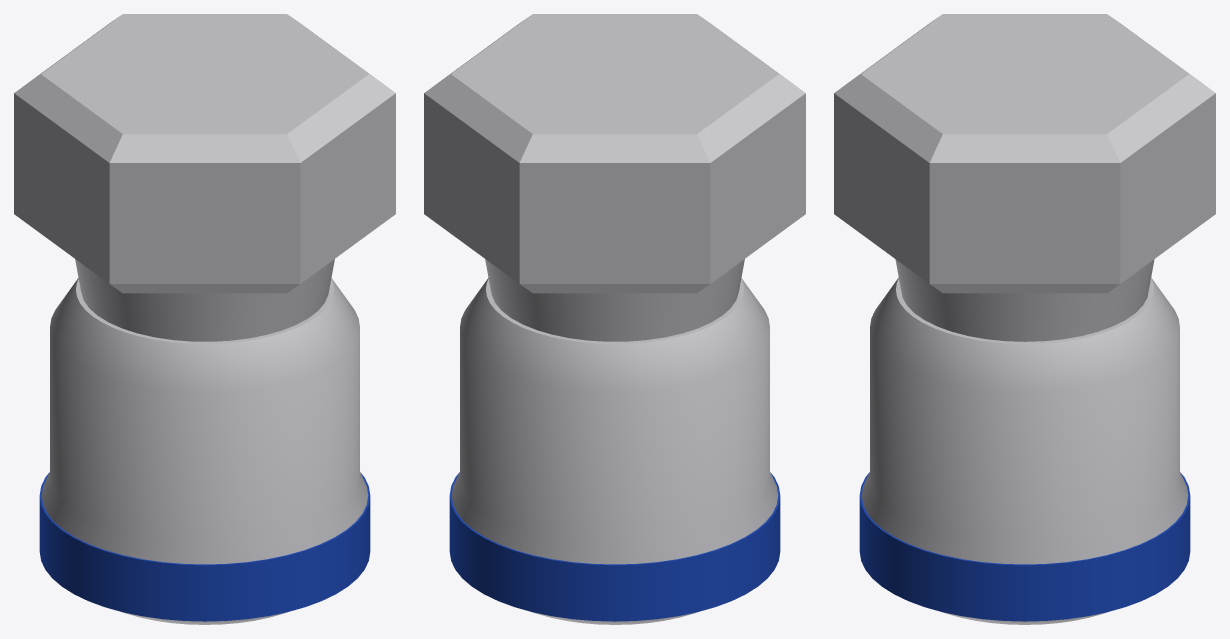
Rendered from adapter_rss1022.glb.
The picture shows the model from 3 angles, left to right: view 1: azimuth 30°, elevation 25°; view 2: azimuth 150°, elevation 25°; view 3: azimuth 270°, elevation 25°; orthographic projection.
Parts seen in each view (by area): view 1: переходник ВР, раструб, кольцо пресс, шейка; view 2: переходник ВР, раструб, кольцо пресс, шейка; view 3: переходник ВР, раструб, кольцо пресс, шейка.
Part boxes in pixels (left/top/right/bottom): переходник ВР: left=14, top=14, right=395, bottom=293; раструб: left=41, top=278, right=368, bottom=624; кольцо пресс: left=39, top=473, right=370, bottom=621; шейка: left=75, top=259, right=334, bottom=341; переходник ВР: left=424, top=14, right=805, bottom=293; раструб: left=451, top=278, right=778, bottom=624; кольцо пресс: left=449, top=473, right=780, bottom=621; шейка: left=485, top=259, right=744, bottom=341; переходник ВР: left=834, top=14, right=1215, bottom=293; раструб: left=861, top=277, right=1188, bottom=624; кольцо пресс: left=859, top=473, right=1190, bottom=621; шейка: left=895, top=259, right=1154, bottom=341.
Bounding box in the file's own units: 0.032 × 0.053 × 0.037.
